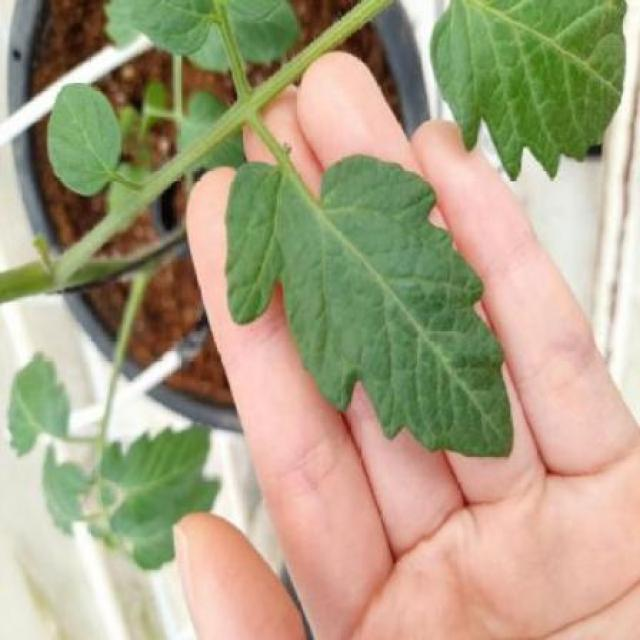Healthy: (225, 155, 514, 458), (48, 83, 122, 197)
